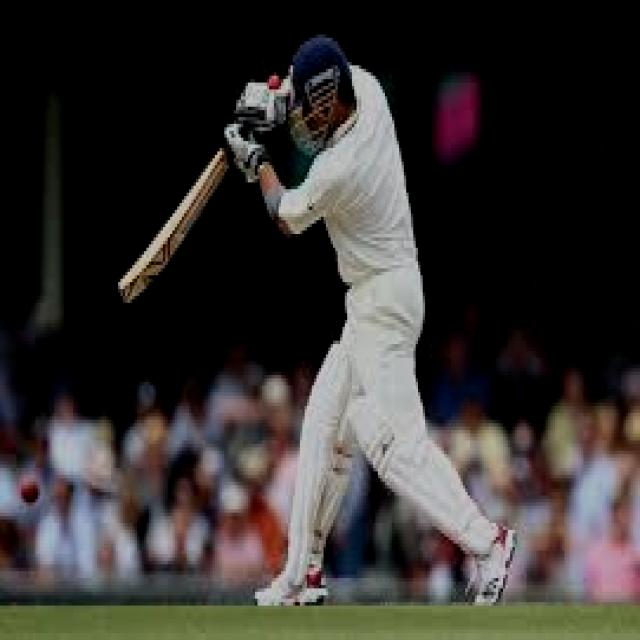toe: (104, 256, 163, 308)
